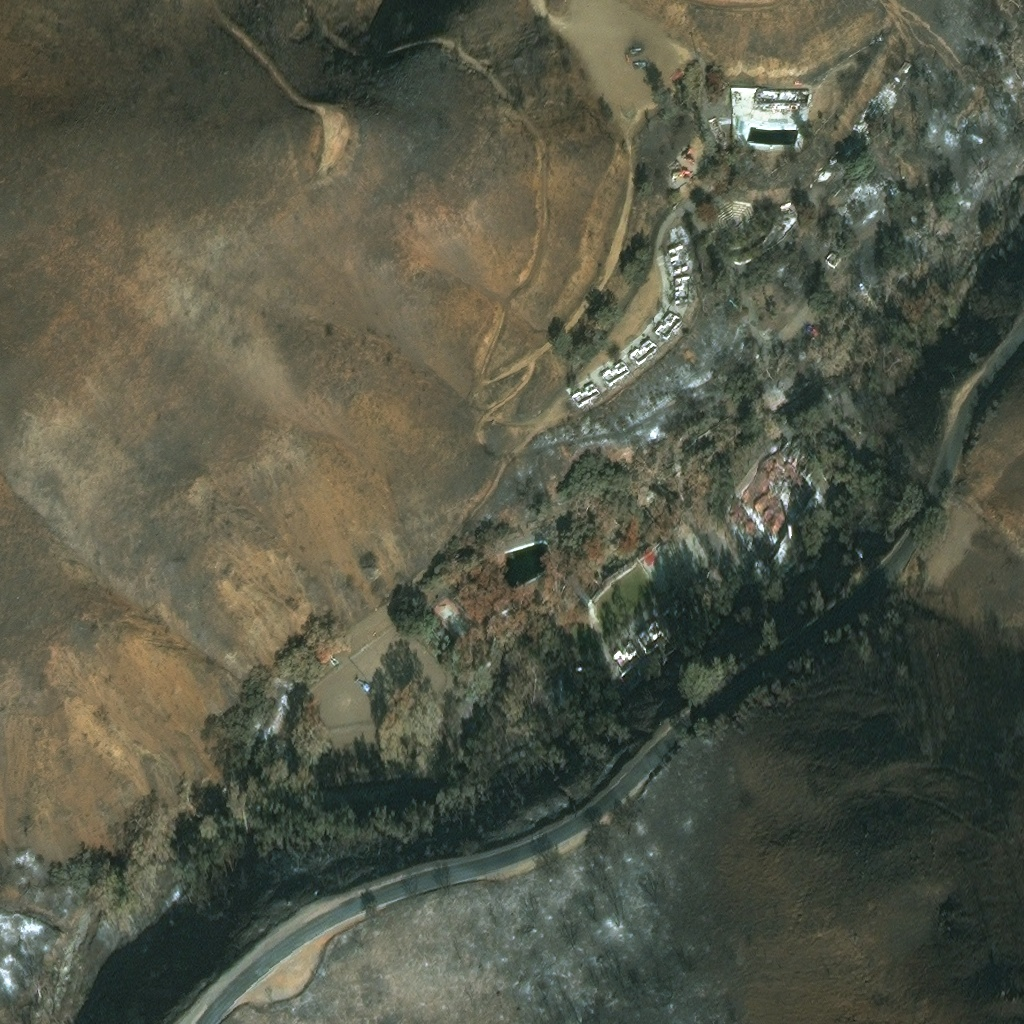3 destroyed: (723, 443, 819, 554), (615, 622, 676, 679), (818, 141, 861, 184), (753, 87, 814, 109), (854, 105, 885, 141), (652, 313, 682, 344), (629, 341, 660, 370), (600, 364, 631, 391), (664, 245, 689, 278), (571, 387, 602, 411), (673, 275, 690, 308), (825, 249, 842, 269), (884, 181, 902, 199), (669, 224, 683, 243), (879, 88, 894, 103), (861, 272, 877, 285), (776, 223, 786, 233)
